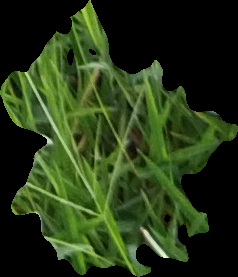grass: (1, 1, 236, 275)
